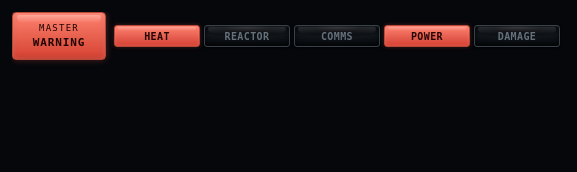
Test: Flight annunciator surface › keeps five fixed indicators in compact order and acknowledges only the selected subsystem
Expected: the button with aria-label "REACTOR clear" is disabled, [204,25,290,47]
Step 1. Click the button with aria-label "HEAT new warning. Acknowledge." → (157, 36), box [114,25,200,47]
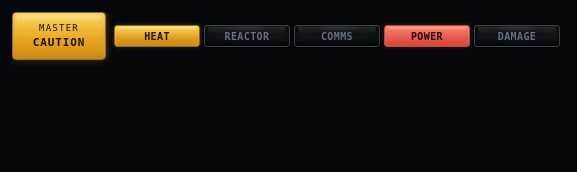
Expected: the button with aria-label "Master caution, unacknowledged" is shown, [12,12,106,60]
Step 2. Click the button with aria-label "POWER new caution. Acknowledge." → (427, 36), box [384,25,470,47]
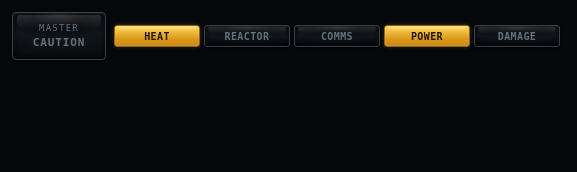
Expected: the button with aria-label "Master caution clear" is shown, [12,12,106,60]
